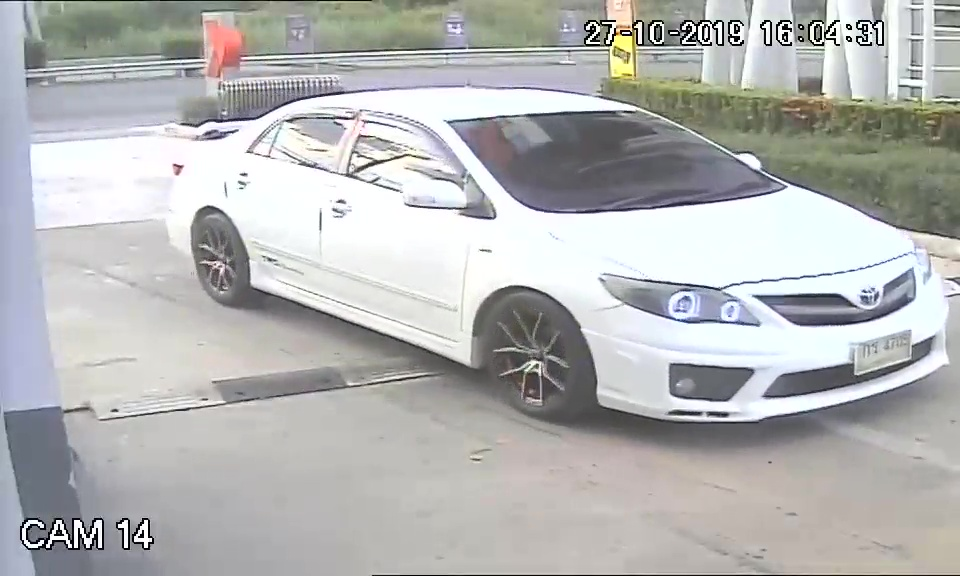sedan: (163, 82, 952, 421)
